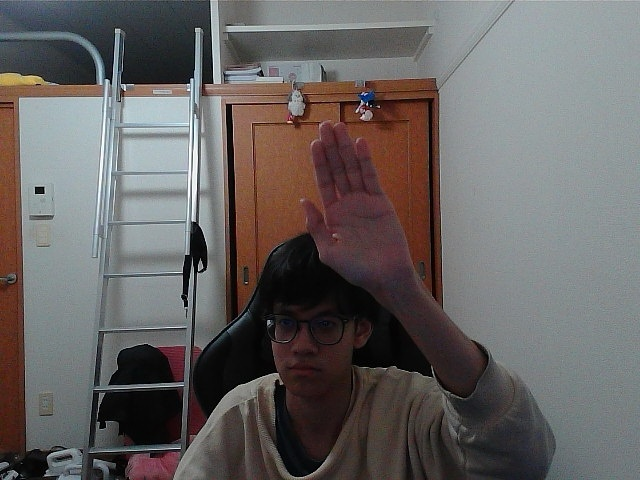open_palm: (307, 132, 380, 272)
